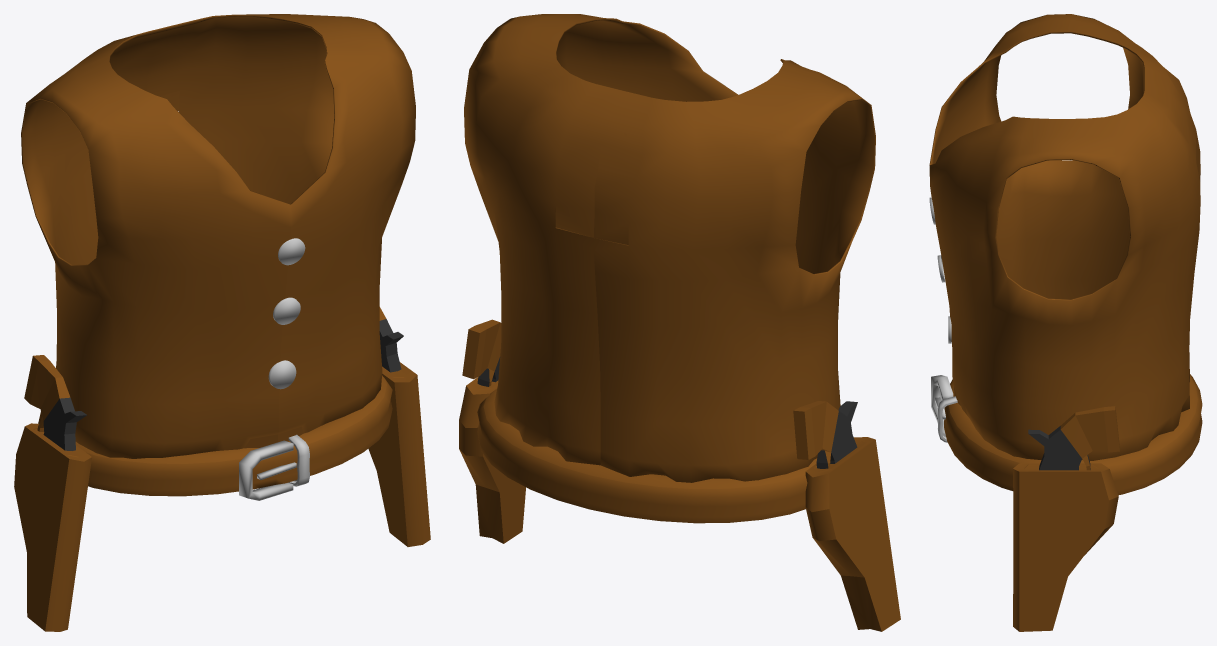
File: Cowboy_yelek.fbx
The picture shows the model from 3 angles, left to right: view 1: azimuth 30°, elevation 25°; view 2: azimuth 150°, elevation 25°; view 3: azimuth 270°, elevation 25°; orthographic projection. The views are drawn at different scales.
Visible parts, largest first — view 1: Yelek, Pantolon.001; view 2: Yelek, Pantolon.001; view 3: Yelek, Pantolon.001.
Boxes of the visible parts, <box> form: Yelek: <box>21,14,415,500</box>; Pantolon.001: <box>14,307,430,631</box>; Yelek: <box>464,14,875,523</box>; Pantolon.001: <box>459,319,900,631</box>; Yelek: <box>929,14,1202,495</box>; Pantolon.001: <box>1013,406,1119,631</box>.
Size of the model in its own units: 10.61 by 13.58 by 7.09.
